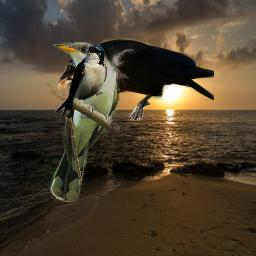Crow: (56, 38, 214, 121)
Cuckoo: (50, 42, 120, 202)
Swallow: (55, 45, 107, 122)
